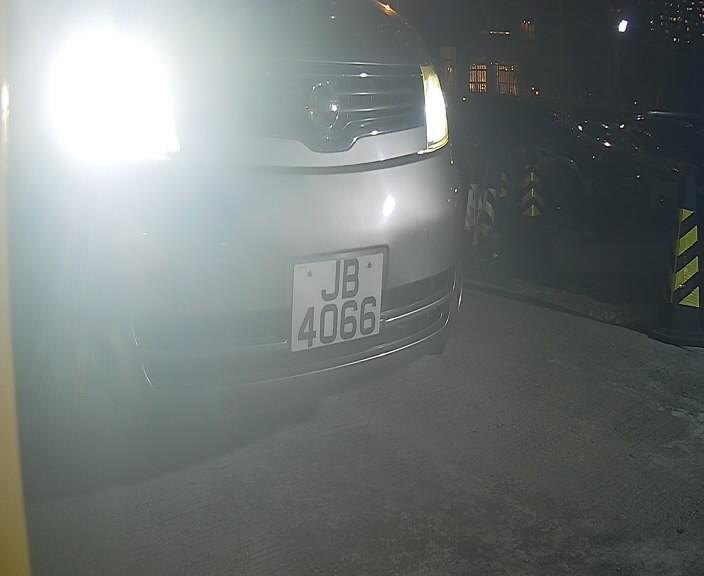privatecar: (12, 2, 482, 426)
